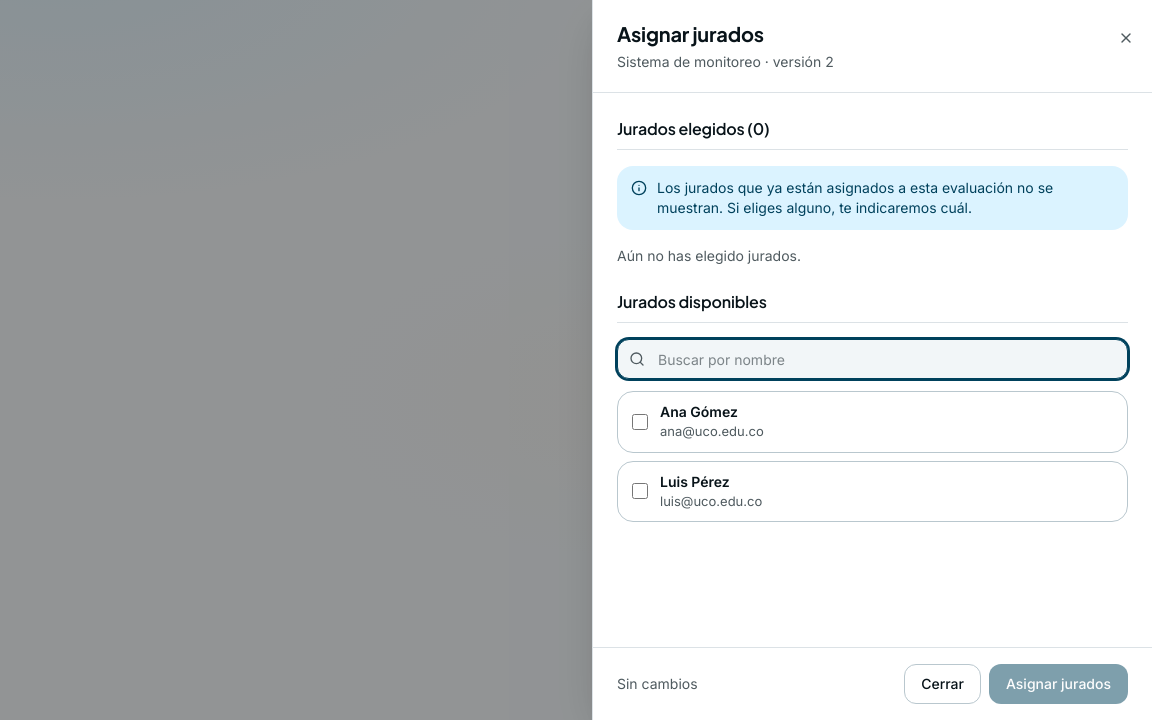
Test: AsignarJuradosEvaluacionPanel › deshabilita "Asignar jurados" mientras no haya elegidos y lo habilita al elegir uno
The width and height of the screenshot is (1152, 720).
Expected: the button "Asignar jurados" is disabled, [989,664,1128,704]
Expected: the heading "Jurados elegidos (0)" is shown, [617,118,769,139]
Click the checkbox labelled "Ana Gómez".
click(640, 422)  # box [632,414,648,430]
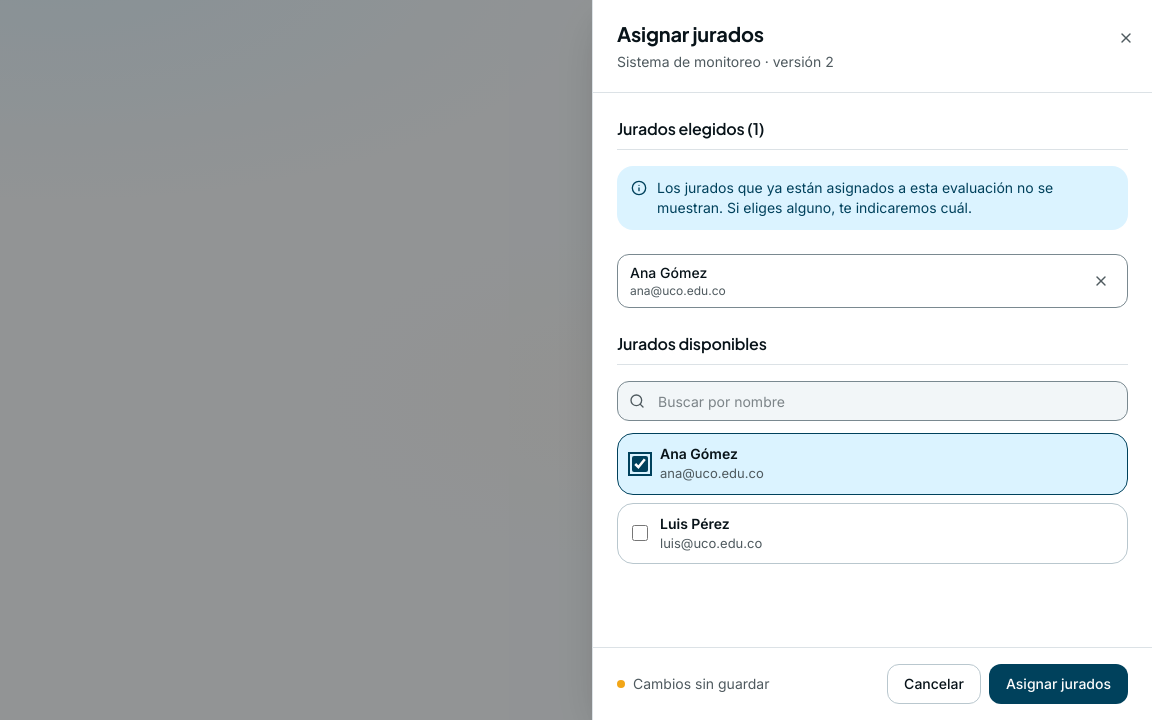
Result: the button "Asignar jurados" is enabled at [989,664,1128,704]
Result: the heading "Jurados elegidos (1)" is shown at [617,118,764,139]
